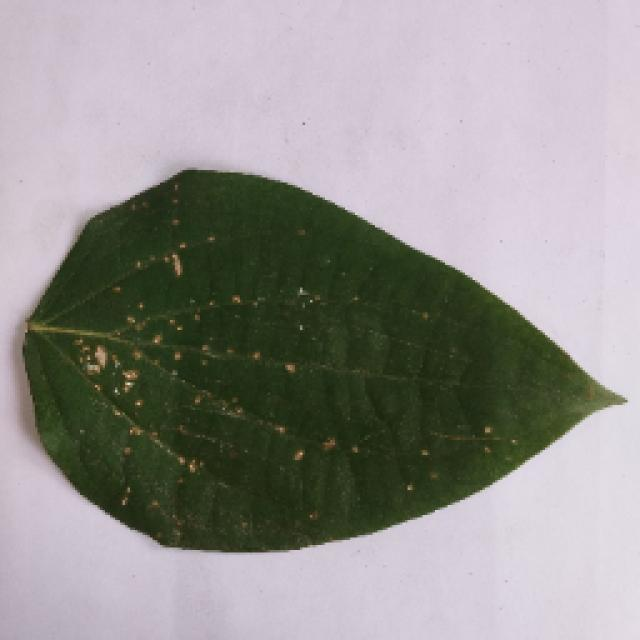pollu-disease: (15, 165, 617, 557)
